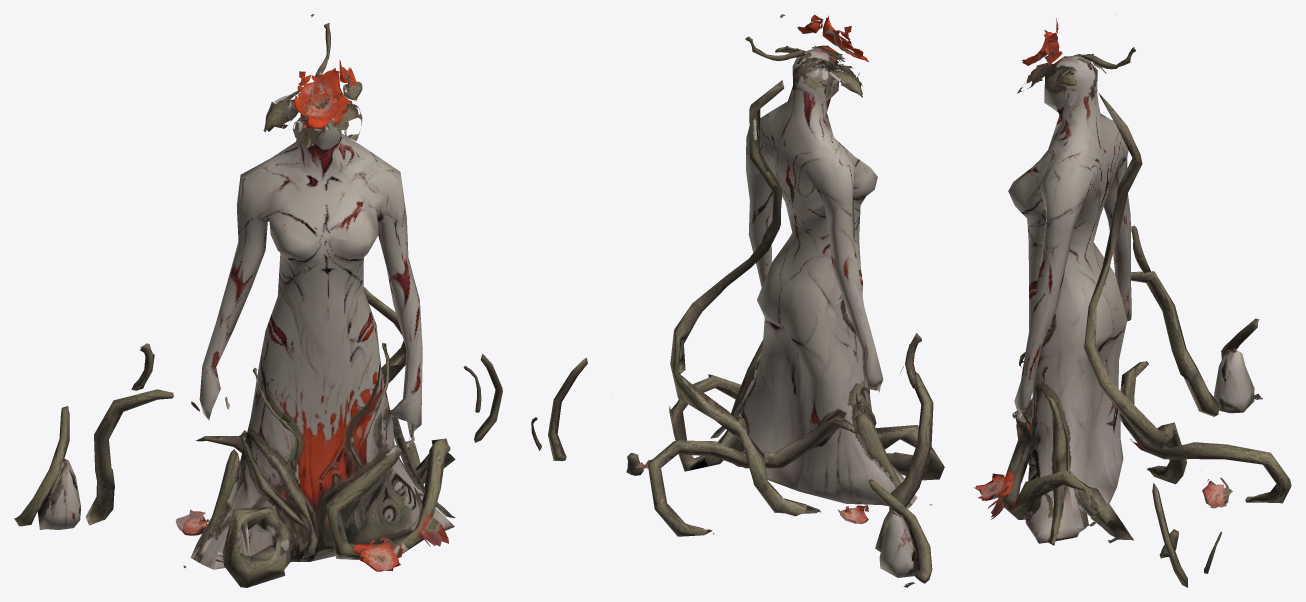
File: defense_001.glb
3 views of the same model, side by side, from view 1: azimuth 30°, elevation 25°; view 2: azimuth 150°, elevation 25°; view 3: azimuth 270°, elevation 25° (orthographic). The views are drawn at different scales.
Parts seen in each view (by area): view 1: tripo_node_8b72f04e-c896-46f3-9b77-069f7a34580d; view 2: tripo_node_8b72f04e-c896-46f3-9b77-069f7a34580d; view 3: tripo_node_8b72f04e-c896-46f3-9b77-069f7a34580d.
Boxes of the visible parts, x1,y1,x2,y2 form: tripo_node_8b72f04e-c896-46f3-9b77-069f7a34580d: (14,14,502,587); tripo_node_8b72f04e-c896-46f3-9b77-069f7a34580d: (531,14,944,587); tripo_node_8b72f04e-c896-46f3-9b77-069f7a34580d: (973,18,1291,587).
Size of the model in its own units: 0.8683 by 0.9474 by 0.5656.
Materials: 1 (1 with a texture image).
